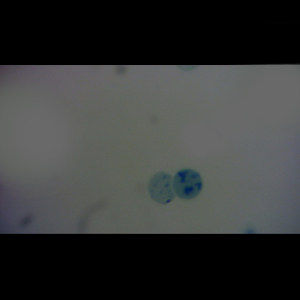aggregate reticulocyte: (171, 168, 204, 201)
erythrocyte: (148, 171, 175, 205)
